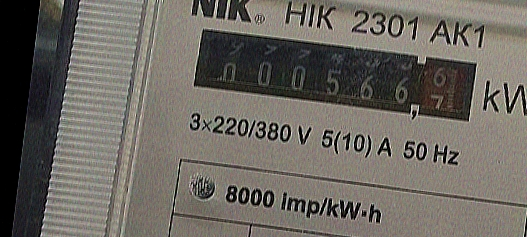0: (288, 61, 310, 92), (255, 56, 275, 87), (219, 57, 241, 82)
5: (323, 66, 344, 96)
6: (391, 72, 414, 105), (356, 70, 378, 101), (432, 64, 450, 90)
7: (428, 91, 446, 111)
9: (226, 35, 246, 57)
screen: (184, 19, 484, 130)
